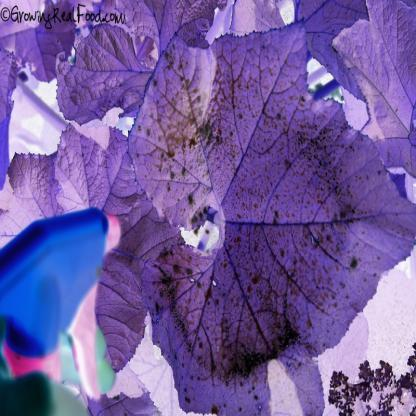Squash Powdery mildew leaf: (95, 22, 415, 390)
